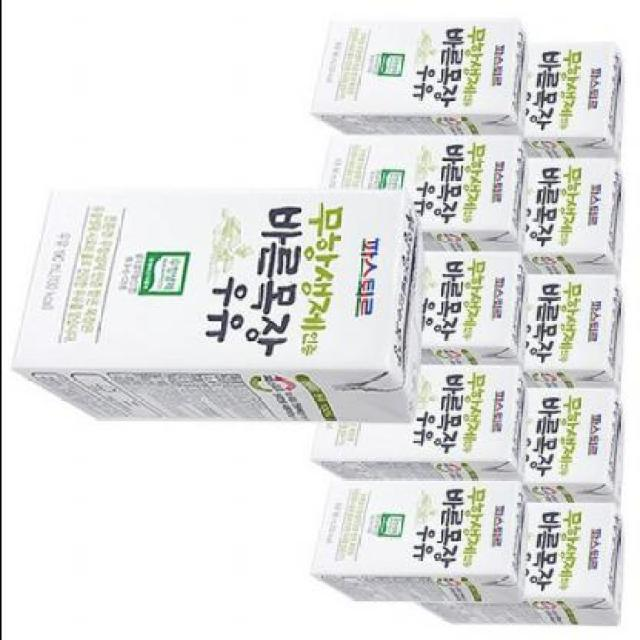tetra: (3, 176, 440, 447)
